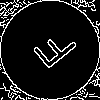F: (25, 25, 79, 78)
